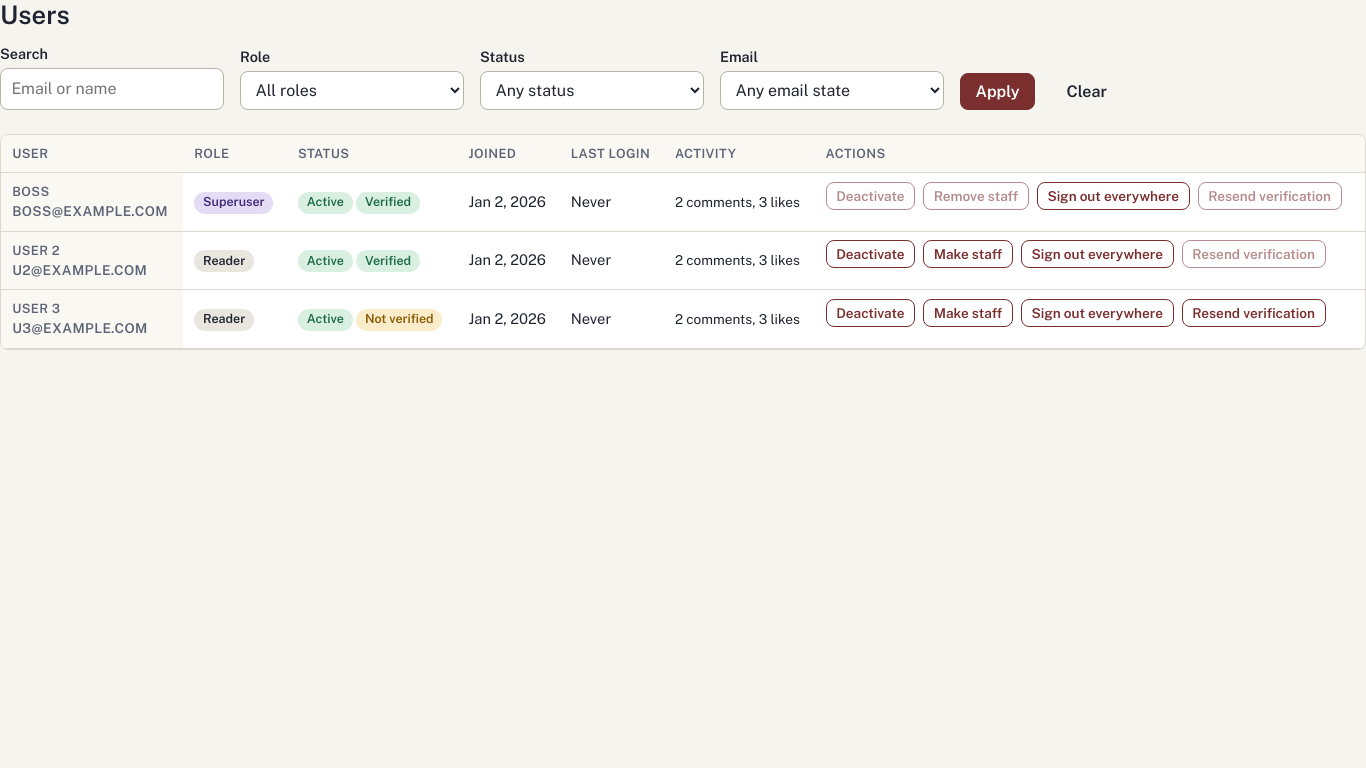
Scenario: UsersPage › shows the server's error inside the dialog and keeps it open
Click the button "Deactivate" in the row of "User 2": click(870, 254) [826,240,915,268]
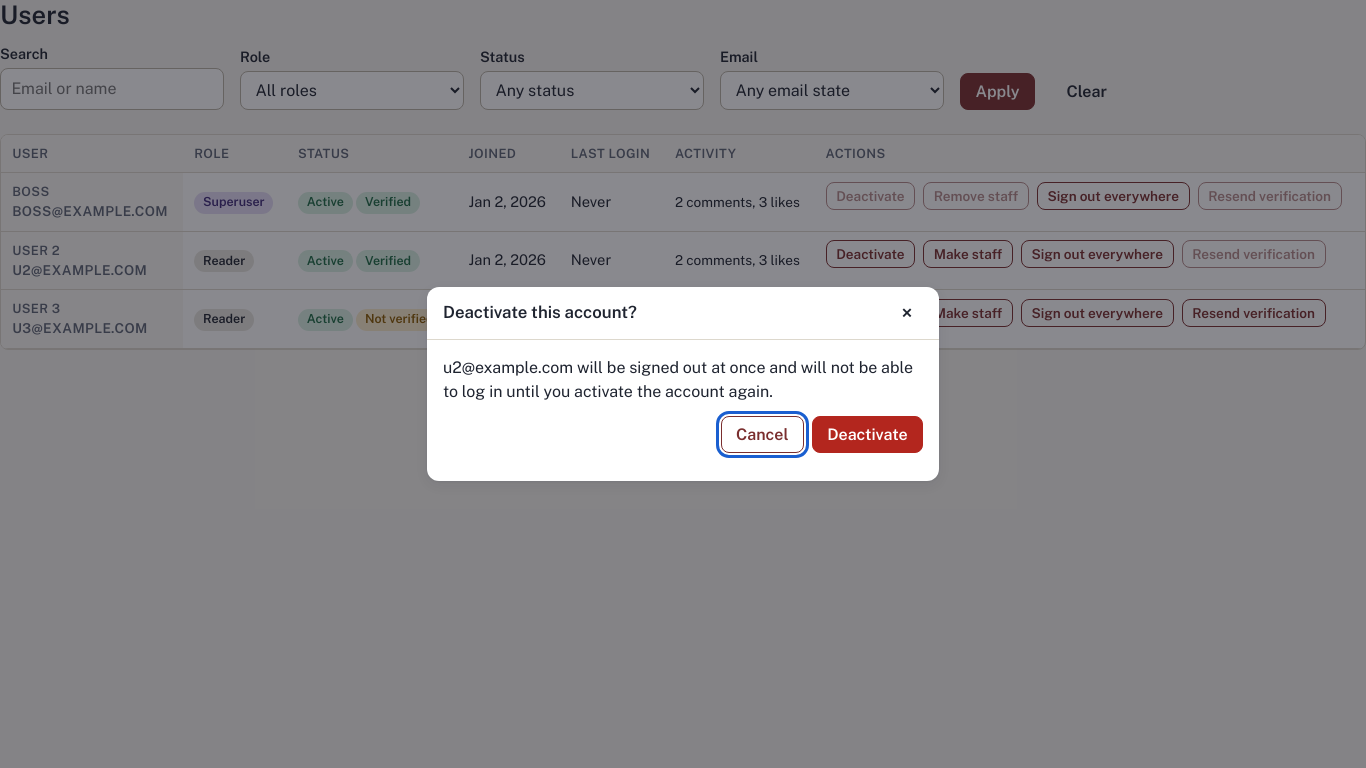
Click the button "Deactivate": click(867, 434) [812,416,923,453]
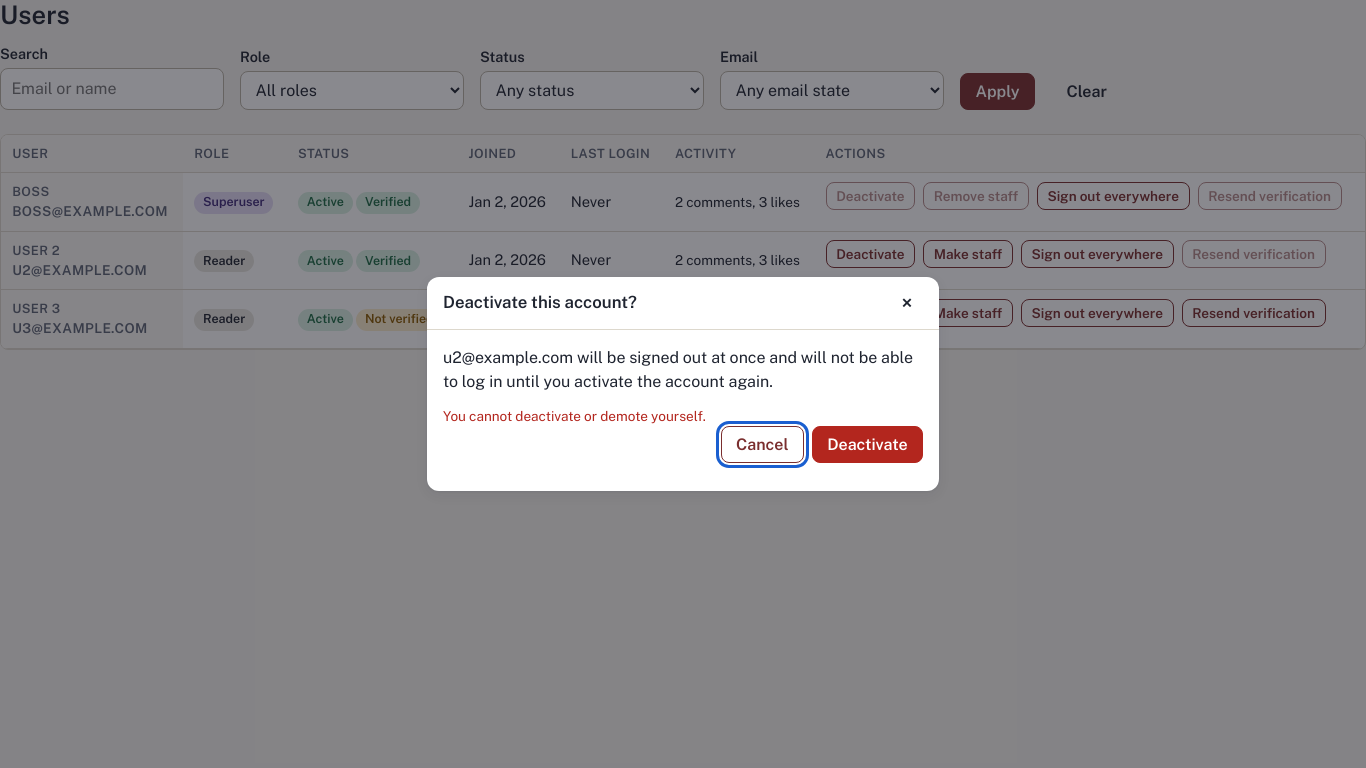
Result: the message reads "You cannot deactivate or demote yourself." at [443,408,706,424]
